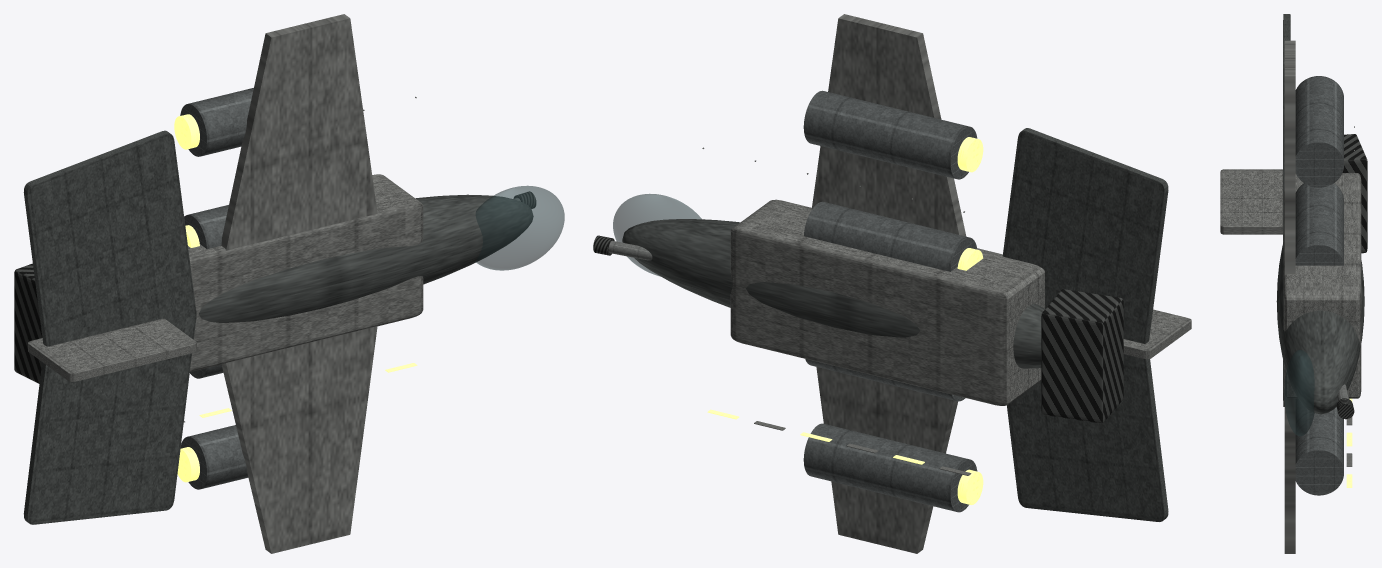
Rendered from c-u22-strategic-airlifter-lod0.glb.
3 renders of one model, left to right at view 1: azimuth 30°, elevation 25°; view 2: azimuth 150°, elevation 25°; view 3: azimuth 270°, elevation 25°, orthographic. The views are drawn at different scales.
Parts seen in each view (by area): view 1: transport_high_wing, transport_tailplane_1, transport_tailplane_-1, cargo_body, transport_fuselage, transport_cockpit, transport_fin_0, transport_engine_3, transport_engine_0, rear_loading_ramp, transport_engine_2, transport_exhaust_3; view 2: cargo_body, transport_high_wing, transport_tailplane_1, transport_tailplane_-1, transport_fuselage, rear_loading_ramp, transport_engine_3, transport_engine_0, transport_engine_2, transport_cockpit, transport_fin_0, transport_engine_1 (+2 smaller); view 3: cargo_body, transport_fuselage, transport_engine_3, transport_high_wing, transport_fin_0, transport_engine_0, transport_engine_2, transport_cockpit, rear_loading_ramp, transport_tailplane_1, defensive_cannon_muzzle_0.
Boxes of the visible parts, box(x1,y1,x2,y2) form: transport_high_wing: box(221, 14, 377, 553); transport_tailplane_1: box(23, 130, 196, 346); transport_tailplane_-1: box(23, 310, 196, 524); cargo_body: box(188, 174, 423, 371); transport_fuselage: box(198, 194, 533, 322); transport_cockpit: box(475, 185, 564, 270); transport_fin_0: box(28, 318, 196, 381); transport_engine_3: box(180, 88, 253, 156); transport_engine_0: box(180, 425, 248, 489); rear_loading_ramp: box(14, 263, 42, 383); transport_engine_2: box(184, 205, 228, 248); transport_exhaust_3: box(174, 114, 199, 149); cargo_body: box(730, 199, 1044, 405); transport_high_wing: box(811, 14, 966, 553); transport_tailplane_1: box(1002, 128, 1168, 364); transport_tailplane_-1: box(1007, 326, 1168, 521); transport_fuselage: box(622, 219, 1044, 368); rear_loading_ramp: box(1041, 289, 1123, 423); transport_engine_3: box(803, 90, 977, 179); transport_engine_0: box(803, 423, 977, 512); transport_engine_2: box(804, 201, 977, 271); transport_cockpit: box(613, 194, 701, 276); transport_fin_0: box(1123, 309, 1191, 359); transport_engine_1: box(805, 359, 965, 401); cargo_body: box(1283, 173, 1361, 398); transport_fuselage: box(1276, 242, 1364, 414); transport_engine_3: box(1295, 76, 1343, 187); transport_high_wing: box(1284, 40, 1295, 553); transport_fin_0: box(1220, 169, 1282, 234); transport_engine_0: box(1295, 399, 1343, 495); transport_engine_2: box(1295, 183, 1343, 265); transport_cockpit: box(1284, 350, 1314, 436); rear_loading_ramp: box(1342, 134, 1367, 253); transport_tailplane_1: box(1283, 14, 1290, 242); defensive_cannon_muzzle_0: box(1336, 398, 1354, 419).
Size of what is drawn, in the model's own units: 25.88 by 23.4 by 6.53.
7 materials, 7 textured.
